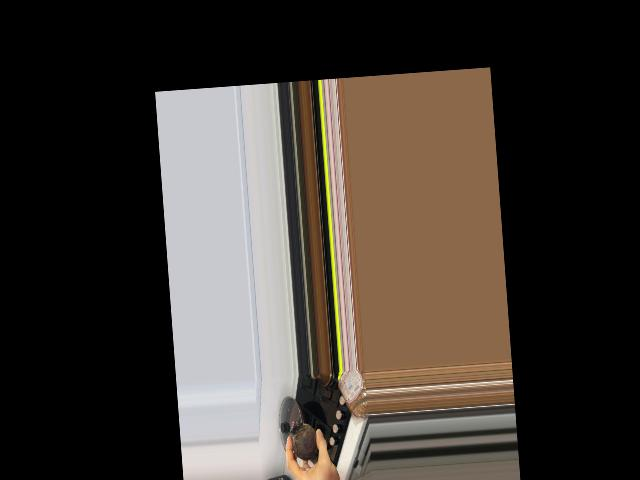beet: (290, 419, 318, 463)
